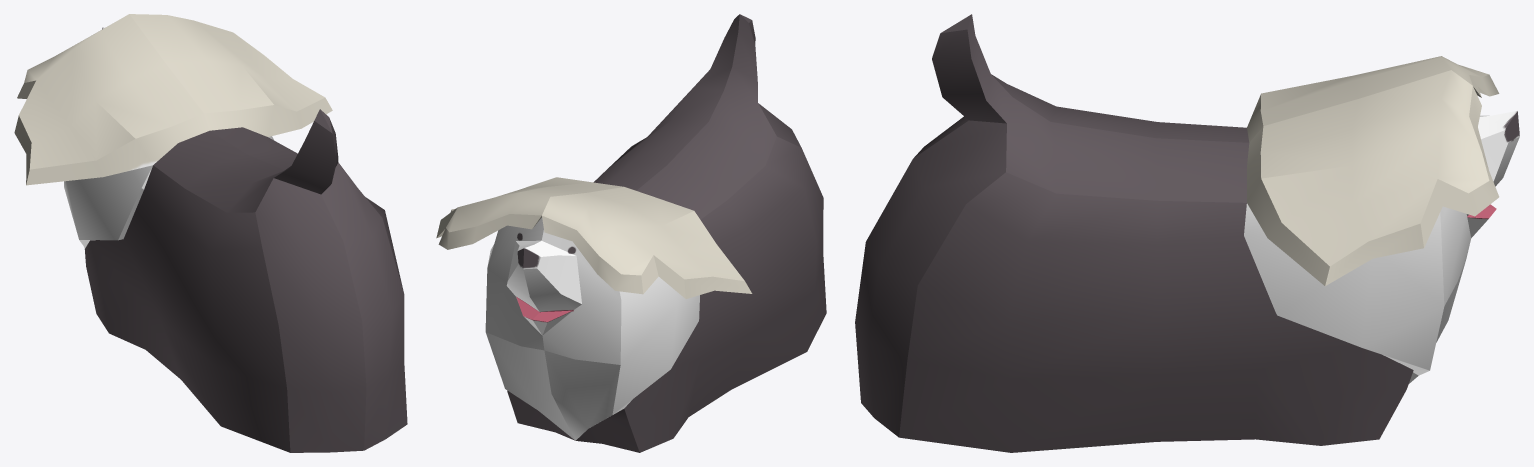
File: dog.fbx
3 views of the same model, side by side, from view 1: azimuth 30°, elevation 25°; view 2: azimuth 150°, elevation 25°; view 3: azimuth 270°, elevation 25° (orthographic). The views are drawn at different scales.
Parts seen in each view (by area): view 1: pCube2; view 2: pCube2; view 3: pCube2.
Part boxes in pixels (x1,y1,x2,y2): pCube2: (14,14,407,452); pCube2: (436,14,826,452); pCube2: (855,14,1519,452).
Bounding box in the file's own units: 8.18 × 7.89 × 12.21.
Materials: 1 (1 with a texture image).
